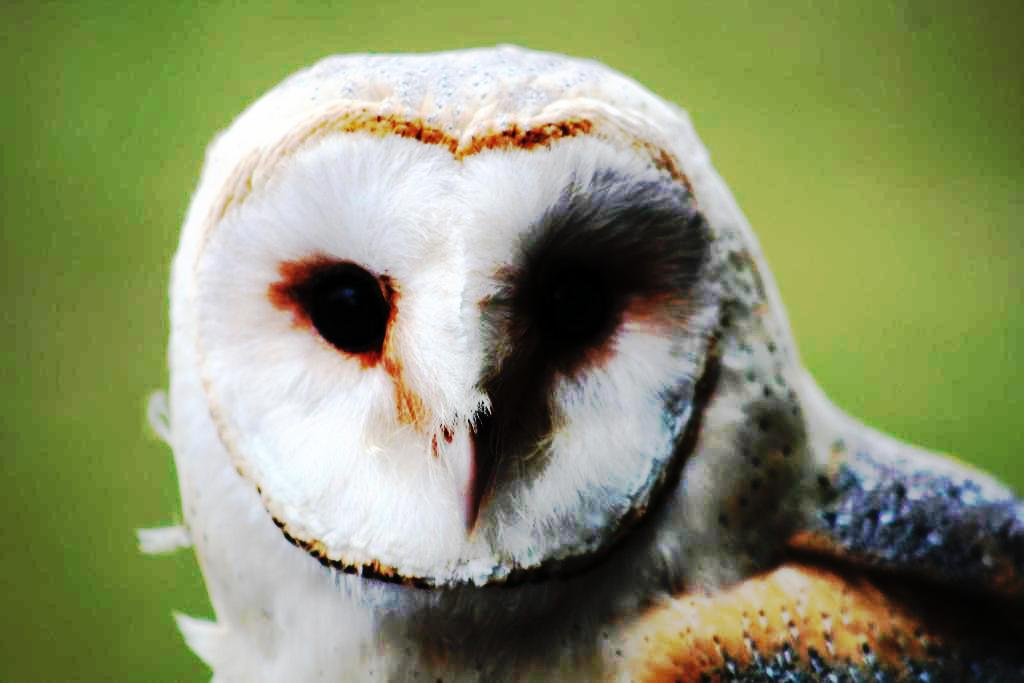Owl: (140, 43, 1024, 682)
